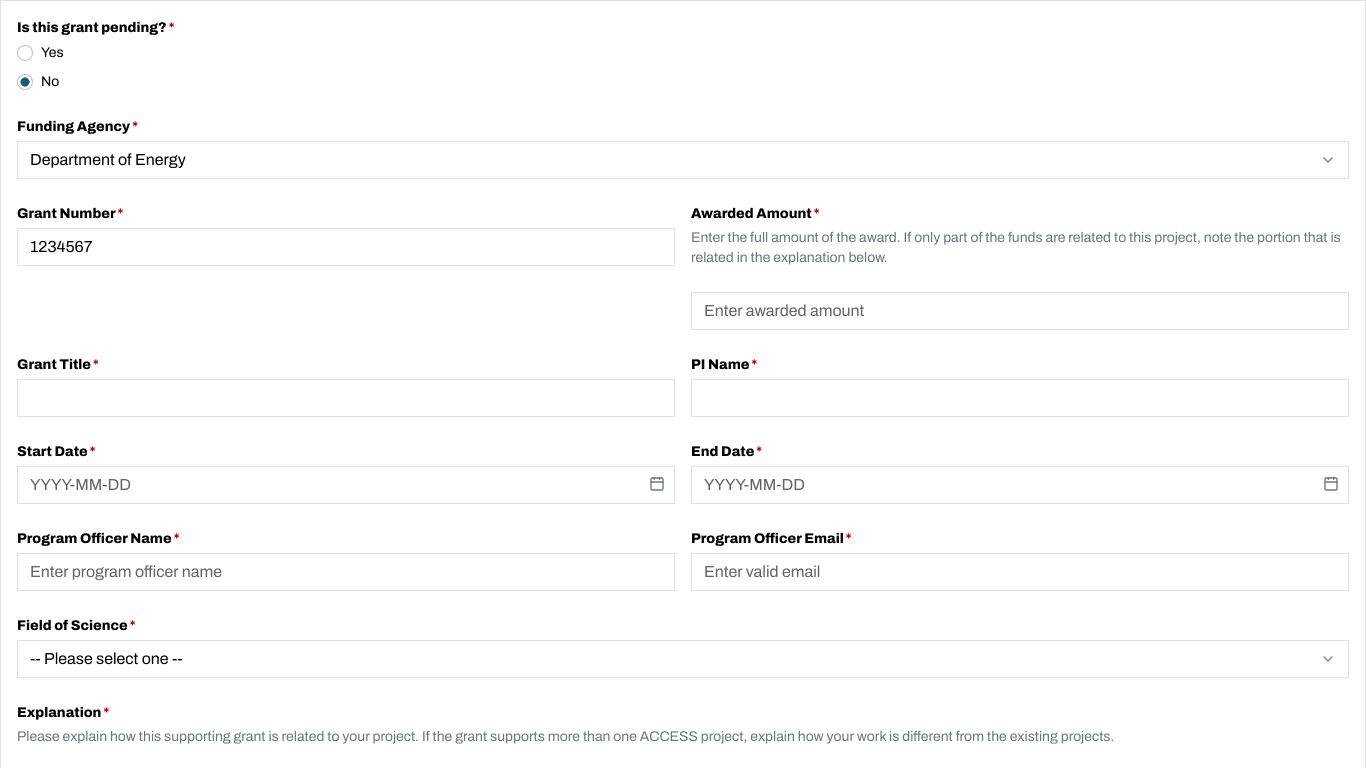
Test: applyNsfLock › locks the fields when the funding agency is changed to NSF and it recognises the grant number already present
Click the dropdown labelled "Department of Energy" at (108, 160), box [17,141,1349,179]
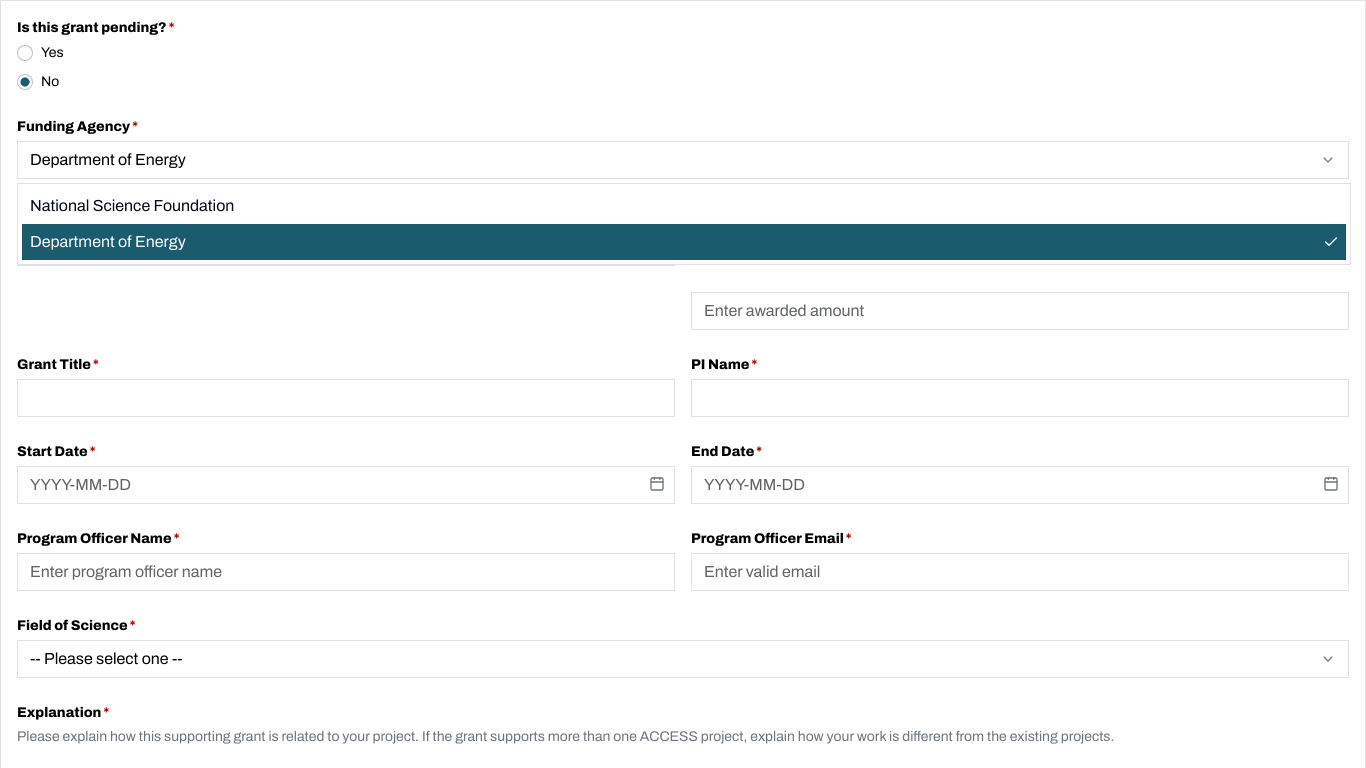
Click the option "National Science Foundation" at (132, 206), box [30,197,234,214]
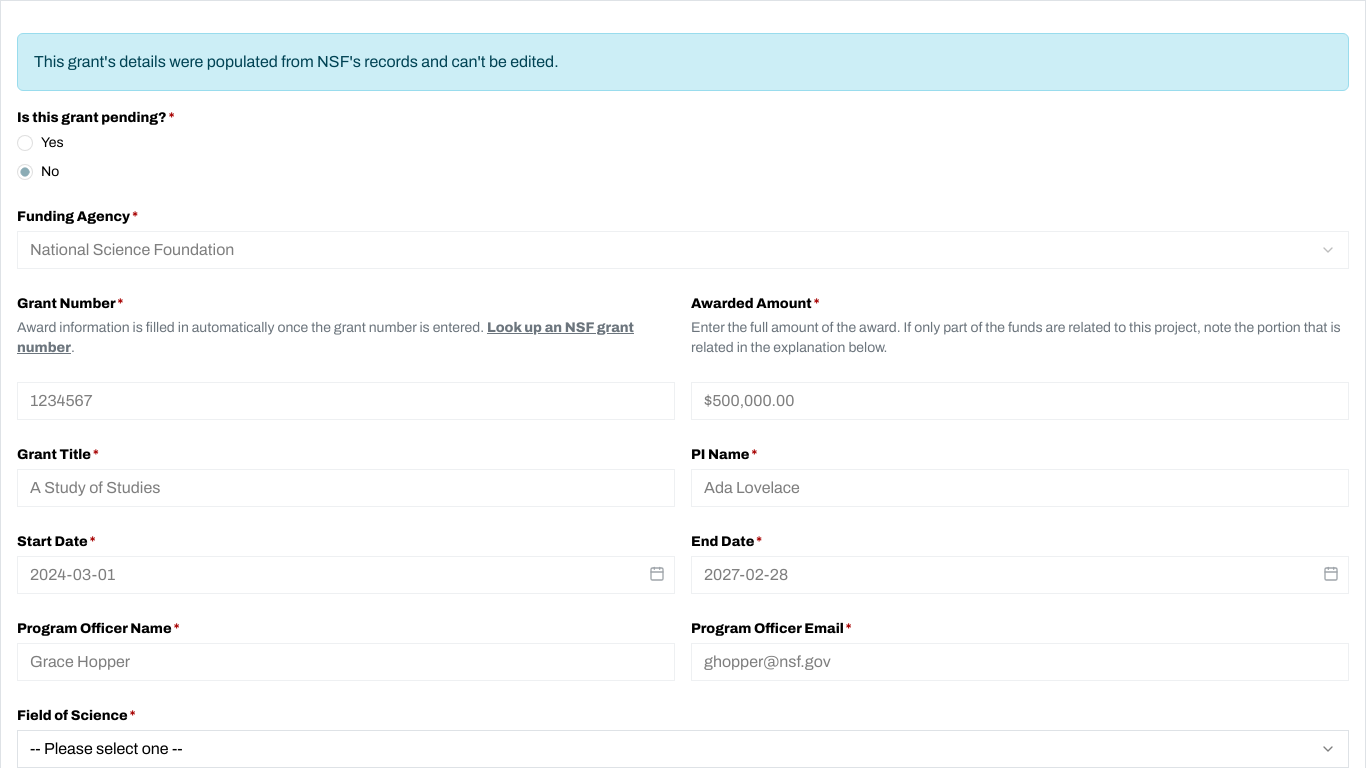
Now the text "This grant's details were populated from NSF's records and can't be edited." is shown, box [17,33,1349,91]
